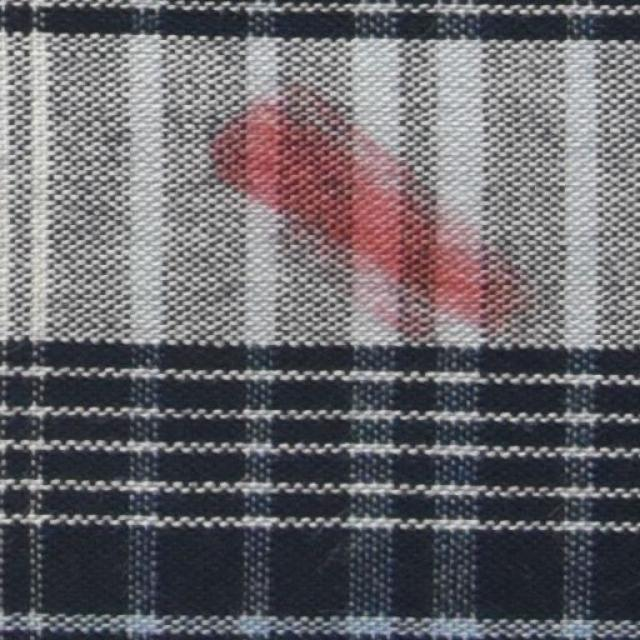Stain: (189, 87, 521, 348)
